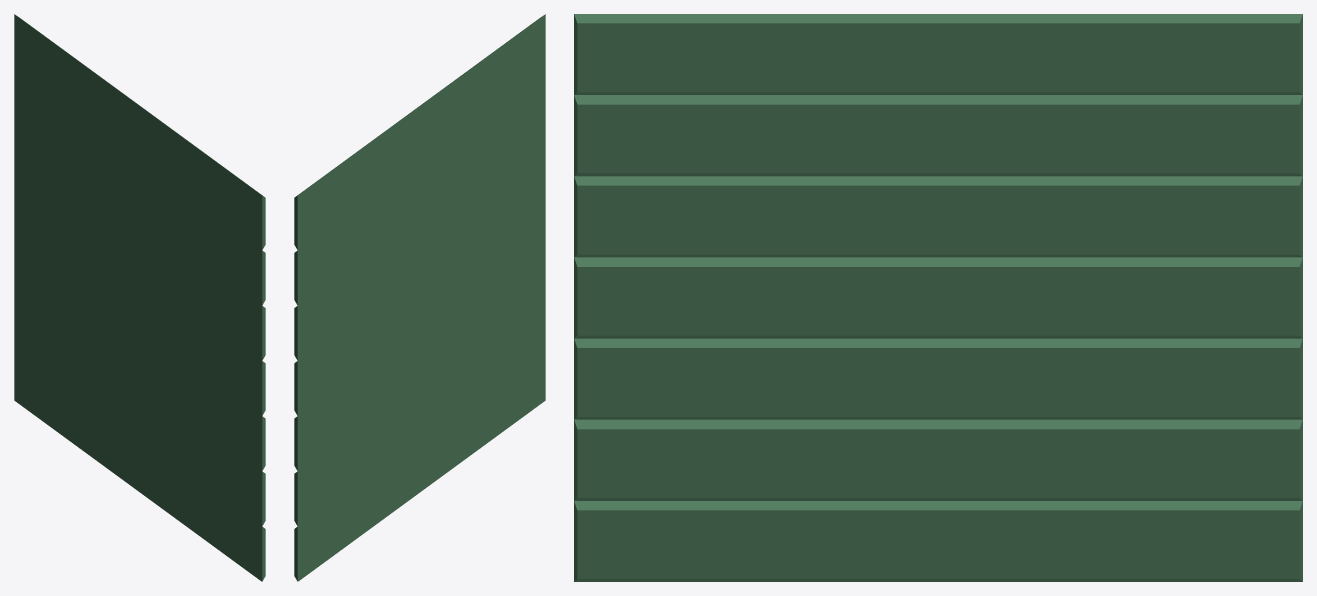
Rendered from dveri_opening.fbx.
3 views of the same model, side by side, from view 1: azimuth 30°, elevation 25°; view 2: azimuth 150°, elevation 25°; view 3: azimuth 270°, elevation 25° (orthographic). The views are drawn at different scales.
Visible parts, largest first — view 1: dveri; view 2: dveri; view 3: dveri.
Part boxes in pixels (x1,y1,x2,y2): dveri: (14, 14, 265, 581); dveri: (294, 14, 545, 581); dveri: (574, 14, 1302, 581).
Bounding box in the file's own units: 0.2339 × 18.66 × 21.69.
